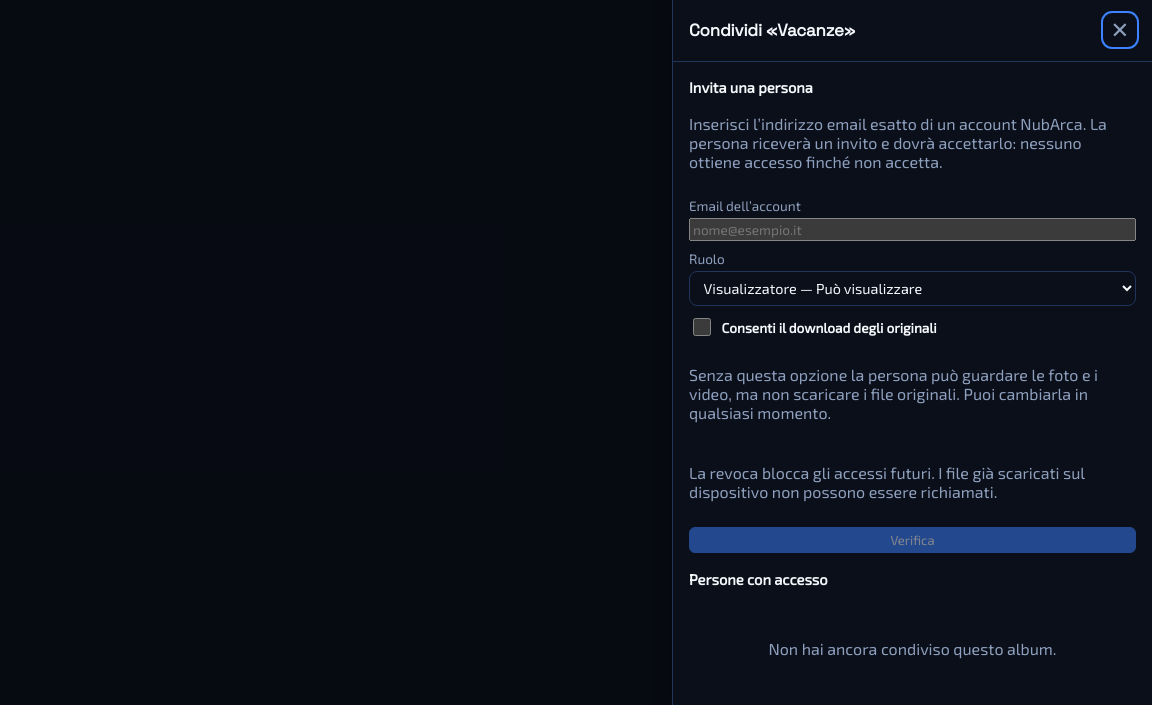
it: AlbumSharePanel › sends the address only in a POST body, never in a URL
Expected: the text "Non hai ancora condiviso questo album." is shown, 768,639 -> 1056,658
Type "bruno@example.com" into the field with test id "album-share-email" at [912, 229], box 689,218 -> 1136,241
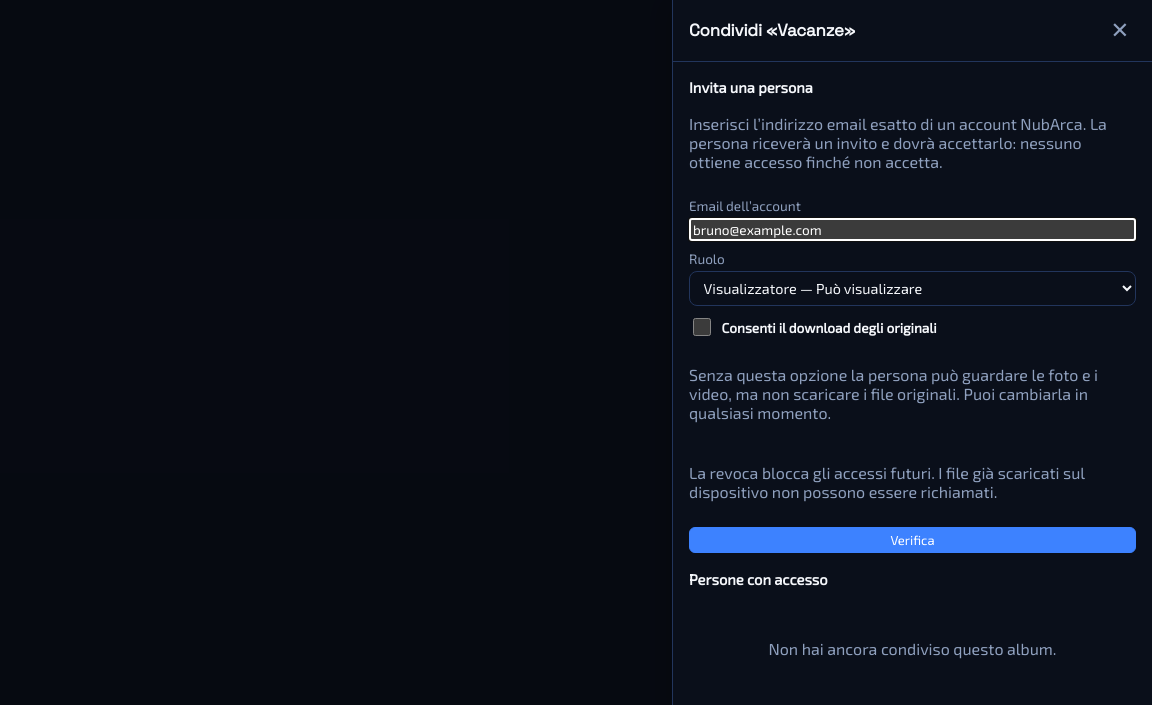
Click the button with test id "album-share-resolve" at [912, 540], box 689,527 -> 1136,553
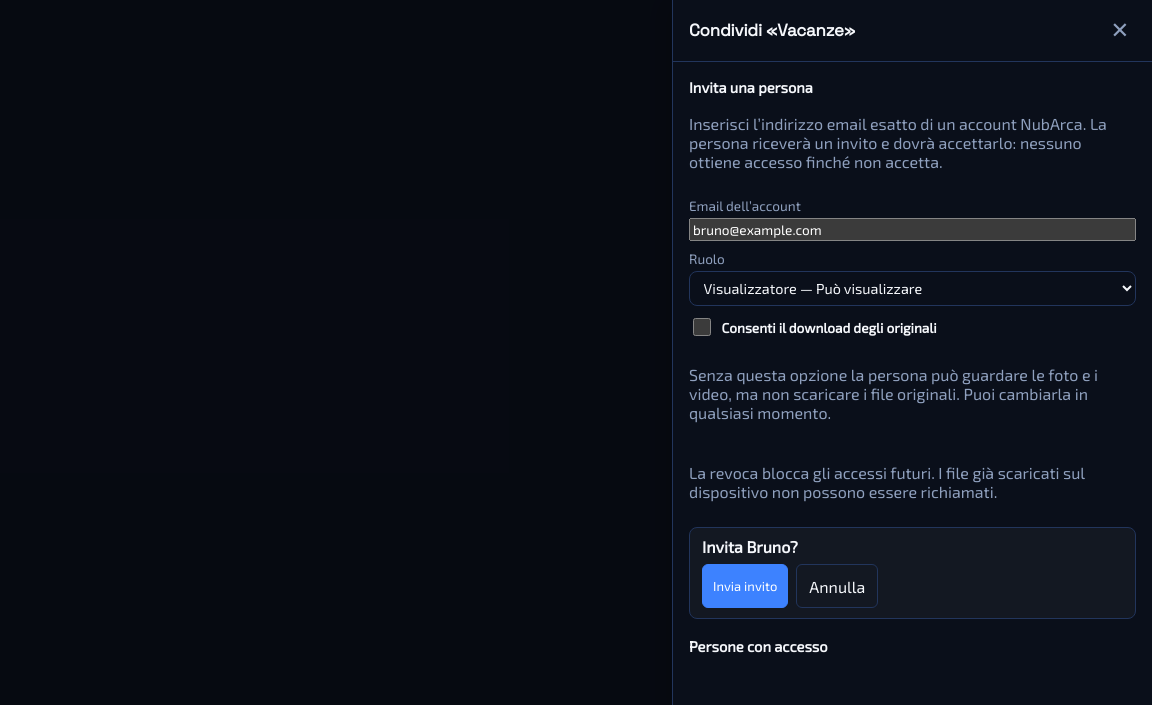
Expected: the element with test id "album-share-confirm" is shown, 689,527 -> 1136,619
